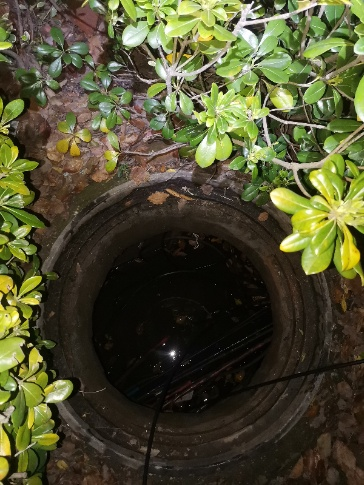lose: (31, 169, 334, 473)
